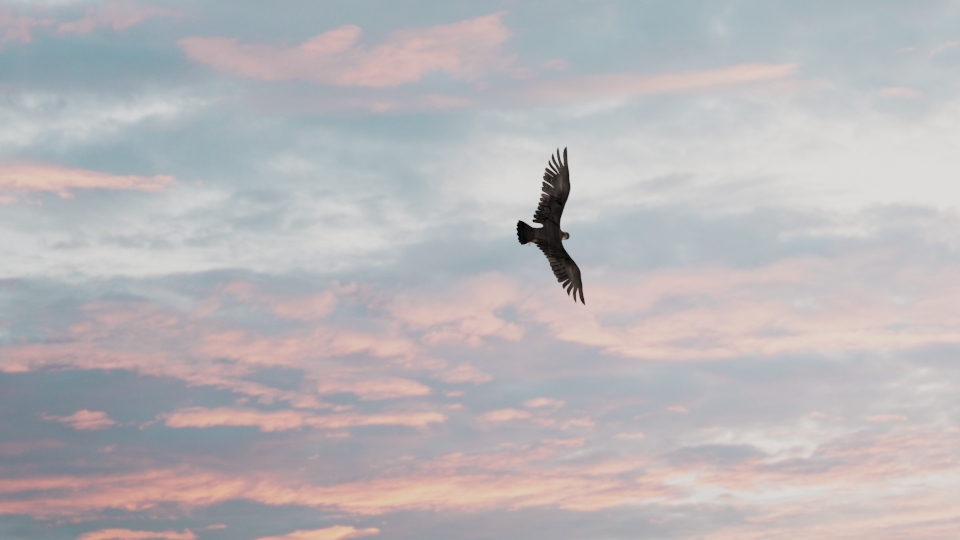bird: (513, 145, 587, 306)
